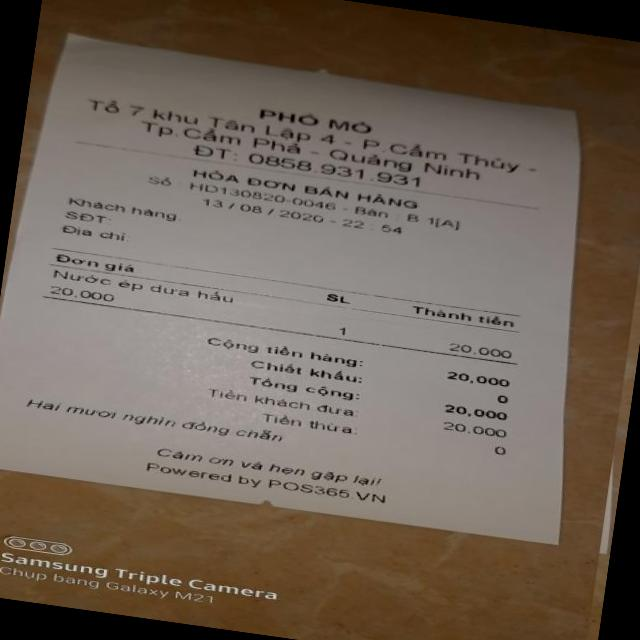Date: (196, 192, 333, 230)
Store_Name: (250, 104, 382, 140)
amount_number: (441, 404, 516, 426)
label_total: (241, 372, 358, 402)
